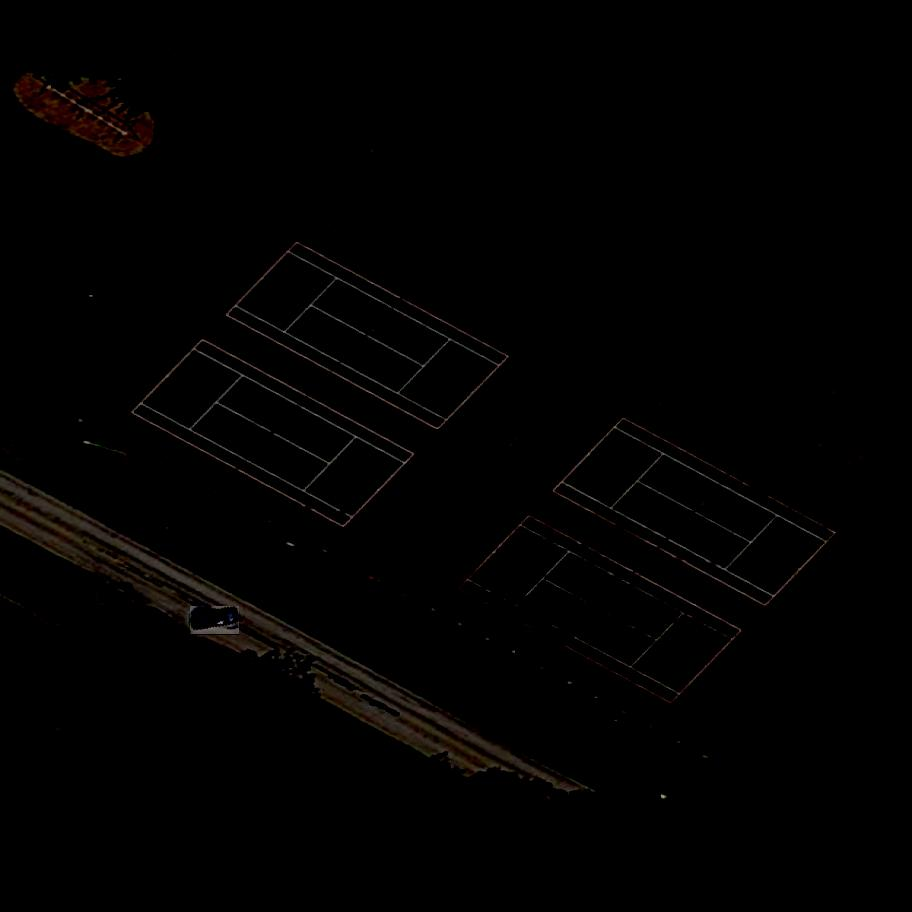small-vehicle: (188, 607, 241, 635)
